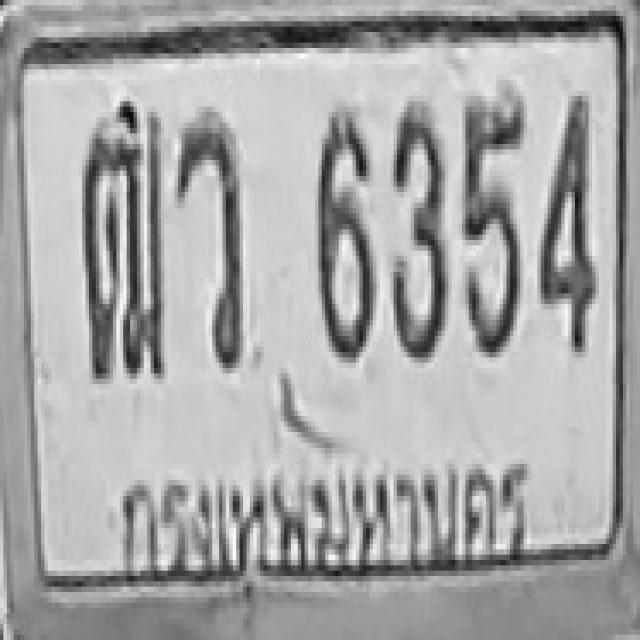27ThorPhuThao: (80, 99, 166, 381)
3: (388, 101, 446, 358)
4: (538, 91, 596, 352)
46WorWaen: (175, 107, 243, 368)
5: (460, 93, 526, 355)
6: (315, 107, 373, 357)
Bangkok: (112, 449, 536, 590)
